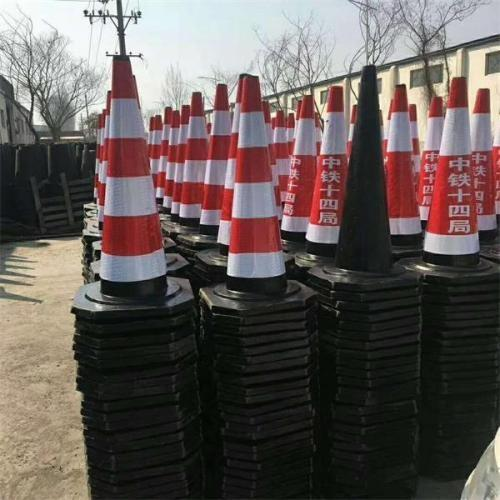cone_barrel: (89, 53, 175, 304), (220, 75, 292, 303), (335, 69, 397, 278), (419, 81, 482, 270), (304, 92, 351, 255), (387, 83, 423, 249), (279, 91, 317, 246), (204, 79, 235, 242), (175, 93, 208, 227), (470, 88, 498, 237), (417, 92, 445, 220)
